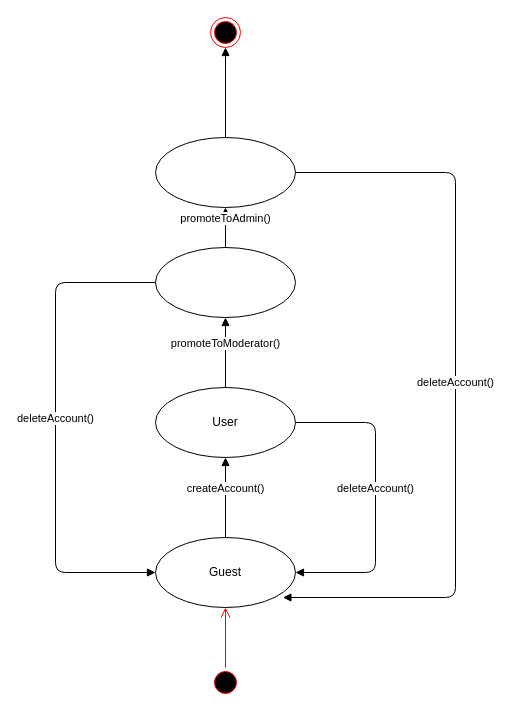
Image size: 511x715. Some labels were removed from this diagram. The shapes that lost their labels are listed below. From the top down, each one's centre as x and y in pixels, then its label:
At point (225, 172): "Administrator".
At point (225, 282): "Moderator".
